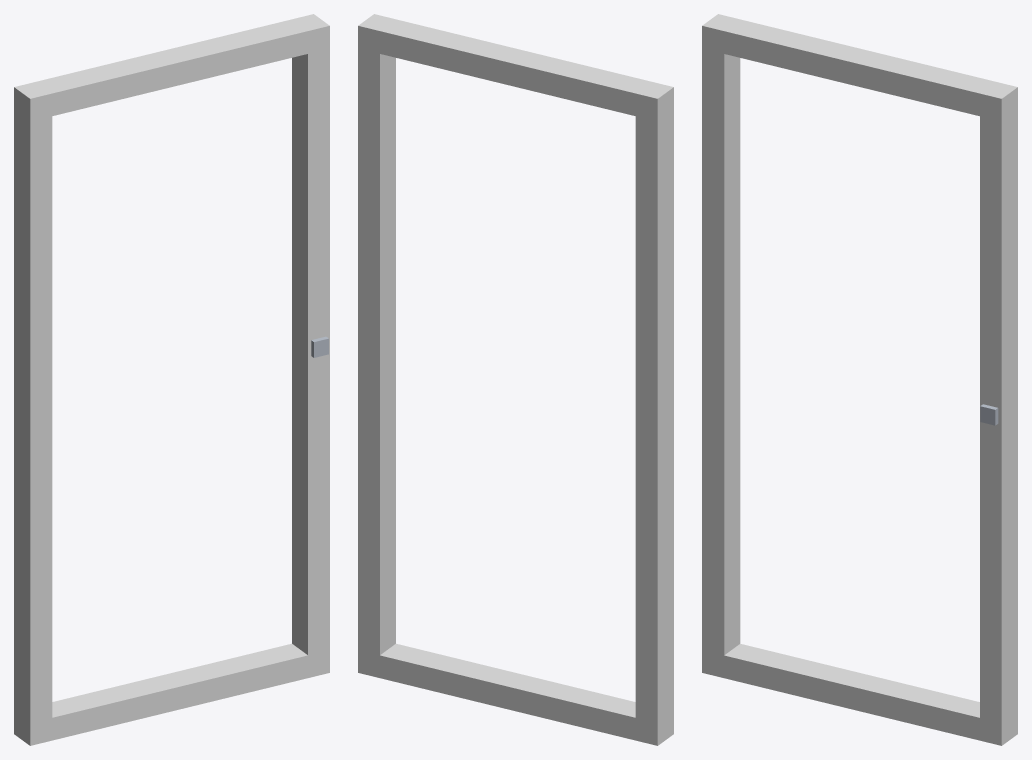
The model's file is Window5_02_3.fbx.
3 renders of one model, left to right at view 1: azimuth 30°, elevation 25°; view 2: azimuth 150°, elevation 25°; view 3: azimuth 330°, elevation 25°, orthographic.
Parts seen in each view (by area): view 1: Window5_02_3; view 2: Window5_02_3; view 3: Window5_02_3.
Boxes of the visible parts, x1,y1,x2,y2 form: Window5_02_3: [14, 14, 329, 745]; Window5_02_3: [358, 14, 673, 745]; Window5_02_3: [702, 14, 1017, 745].
Bounding box in the file's own units: 55.1 × 114 × 6.01.
